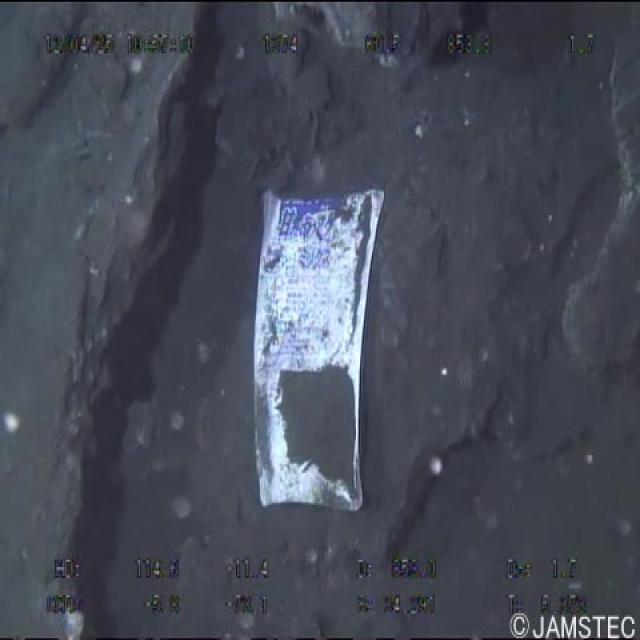plastic: (242, 182, 386, 542)
